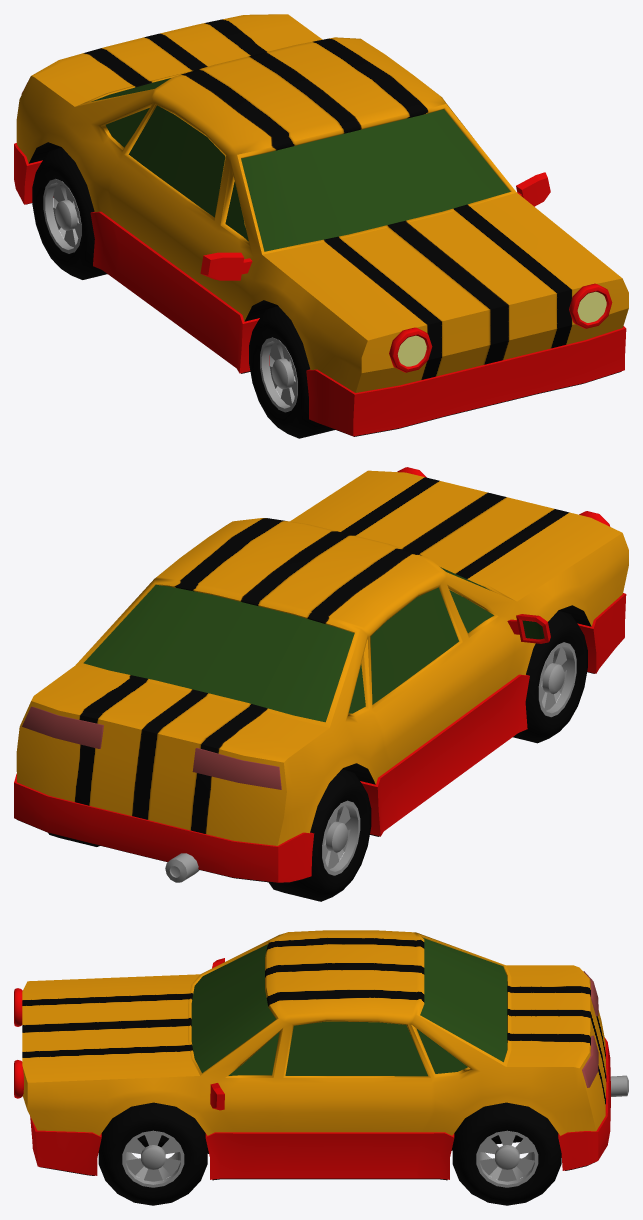
The model's file is Muscle Evolution1 Red TrilineBlackOrange DarkGreen LightGrey.glb.
The picture shows the model from 3 angles, top to bottom: view 1: azimuth 30°, elevation 25°; view 2: azimuth 150°, elevation 25°; view 3: azimuth 270°, elevation 25°; orthographic projection. The views are drawn at different scales.
Parts seen in each view (by area): view 1: evo1_body4_f1_dupl, evo1_sill0_f1_dupl, evo1_frontGlass_f1_dupl, evo1_glasseBigR_f1_dupl, evo1_tire_rf_f1_dupl, evo1_tire_rf1_f1_dupl, evo1_rim_A_rb_f1_dupl, evo1_rim_A_rf_f1_dupl, evo1_mirorR3_f1_dupl, evo1_blockLightR_f1_dupl, evo1_blockLightL_f1_dupl, evo1_mirorL3_f1_dupl (+4 smaller); view 2: evo1_body4_f1_dupl, evo1_sill0_f1_dupl, evo1_BackGlassGlass_f1_dupl, evo1_glasseBigR_f1_dupl, evo1_tire_rf_f1_dupl, evo1_tire_rf1_f1_dupl, evo1_rim_A_rf_f1_dupl, evo1_rim_A_rb_f1_dupl, evo1_redlightR2_f1_dupl, evo1_redlightL2_f1_dupl, evo1_glassfR_f1_dupl, evo1_pipe1_f1_dupl (+1 smaller); view 3: evo1_body4_f1_dupl, evo1_sill0_f1_dupl, evo1_BackGlassGlass_f1_dupl, evo1_glasseBigL_f1_dupl, evo1_frontGlass_f1_dupl, evo1_tire_lb_f1_dupl, evo1_tire_lf_f1_dupl, evo1_rim_A_lf_f1_dupl, evo1_rim_A_lb_f1_dupl, evo1_glassfL_f1_dupl, evo1_glassbL_f1_dupl, evo1_GroundBody_f1_dupl (+1 smaller).
Boxes of the visible parts, left/top/right/bottom form: evo1_body4_f1_dupl: left=16, top=14, right=628, bottom=392; evo1_sill0_f1_dupl: left=14, top=143, right=626, bottom=436; evo1_frontGlass_f1_dupl: left=241, top=109, right=510, bottom=251; evo1_glasseBigR_f1_dupl: left=128, top=105, right=225, bottom=217; evo1_tire_rf_f1_dupl: left=32, top=147, right=107, bottom=279; evo1_tire_rf1_f1_dupl: left=249, top=306, right=334, bottom=438; evo1_rim_A_rb_f1_dupl: left=43, top=179, right=81, bottom=253; evo1_rim_A_rf_f1_dupl: left=260, top=337, right=297, bottom=412; evo1_mirorR3_f1_dupl: left=200, top=252, right=252, bottom=280; evo1_blockLightR_f1_dupl: left=389, top=327, right=432, bottom=372; evo1_blockLightL_f1_dupl: left=569, top=283, right=612, bottom=328; evo1_mirorL3_f1_dupl: left=516, top=172, right=550, bottom=206; evo1_body4_f1_dupl: left=16, top=470, right=628, bottom=845; evo1_sill0_f1_dupl: left=14, top=593, right=626, bottom=882; evo1_BackGlassGlass_f1_dupl: left=83, top=584, right=354, bottom=722; evo1_glasseBigR_f1_dupl: left=370, top=587, right=458, bottom=704; evo1_tire_rf_f1_dupl: left=268, top=769, right=371, bottom=901; evo1_tire_rf1_f1_dupl: left=513, top=610, right=587, bottom=743; evo1_rim_A_rf_f1_dupl: left=538, top=642, right=576, bottom=717; evo1_rim_A_rb_f1_dupl: left=322, top=800, right=360, bottom=875; evo1_redlightR2_f1_dupl: left=192, top=748, right=281, bottom=789; evo1_redlightL2_f1_dupl: left=22, top=706, right=103, bottom=748; evo1_glassfR_f1_dupl: left=449, top=590, right=493, bottom=632; evo1_pipe1_f1_dupl: left=165, top=853, right=199, bottom=882; evo1_body4_f1_dupl: left=22, top=930, right=606, bottom=1152; evo1_sill0_f1_dupl: left=30, top=1037, right=610, bottom=1179; evo1_BackGlassGlass_f1_dupl: left=420, top=937, right=507, bottom=1061; evo1_glasseBigL_f1_dupl: left=285, top=1021, right=427, bottom=1076; evo1_frontGlass_f1_dupl: left=191, top=944, right=276, bottom=1073; evo1_tire_lb_f1_dupl: left=452, top=1102, right=561, bottom=1205; evo1_tire_lf_f1_dupl: left=98, top=1102, right=207, bottom=1205; evo1_rim_A_lf_f1_dupl: left=122, top=1130, right=184, bottom=1187; evo1_rim_A_lb_f1_dupl: left=476, top=1130, right=538, bottom=1187; evo1_glassfL_f1_dupl: left=228, top=1032, right=279, bottom=1075; evo1_glassbL_f1_dupl: left=416, top=1028, right=467, bottom=1073; evo1_GroundBody_f1_dupl: left=40, top=1140, right=594, bottom=1180.
Bounding box in the file's own units: 177 × 112 × 331.
7 materials, 1 textured.
